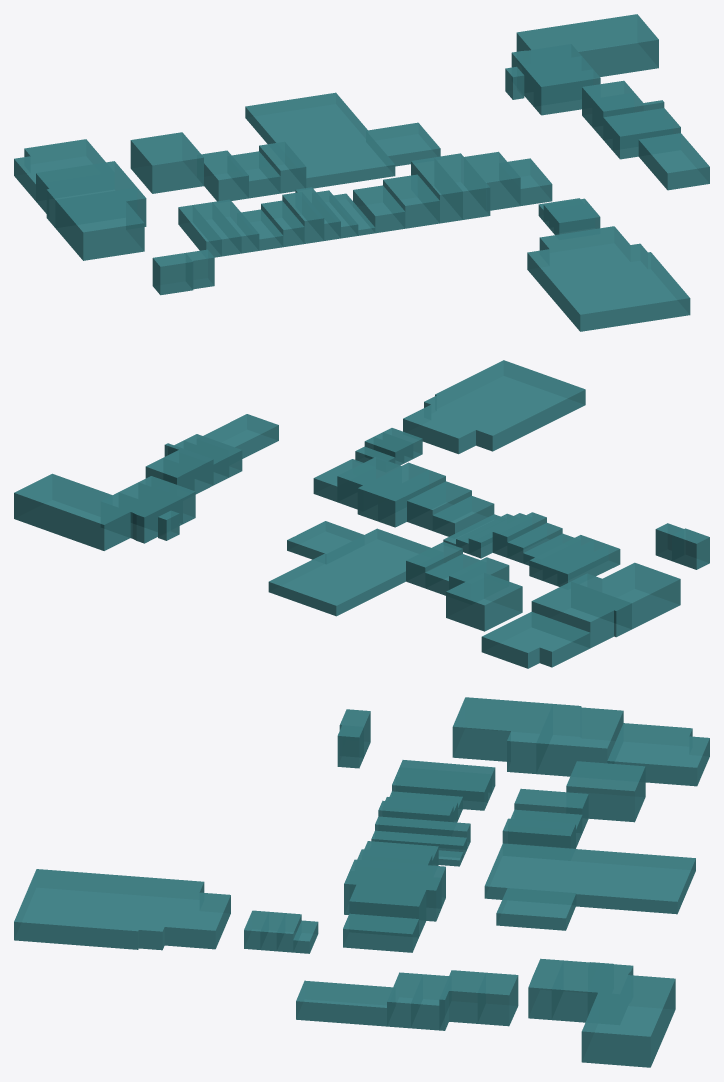
File: buildingsArea.dae
The picture shows the model from 3 angles, top to bottom: view 1: azimuth 30°, elevation 25°; view 2: azimuth 150°, elevation 25°; view 3: azimuth 270°, elevation 25°; orthographic projection. The views are drawn at different scales.
Visible parts, largest first — view 1: Object (×38); view 2: Object (×36); view 3: Object (×37).
Boxes of the visible parts, x1,y1,x2,y2 form: Object (×38): [14, 14, 709, 331]; Object (×36): [14, 360, 709, 668]; Object (×37): [14, 697, 709, 1067].
Bounding box in the file's own units: 92.6 × 3.94 × 80.2.
